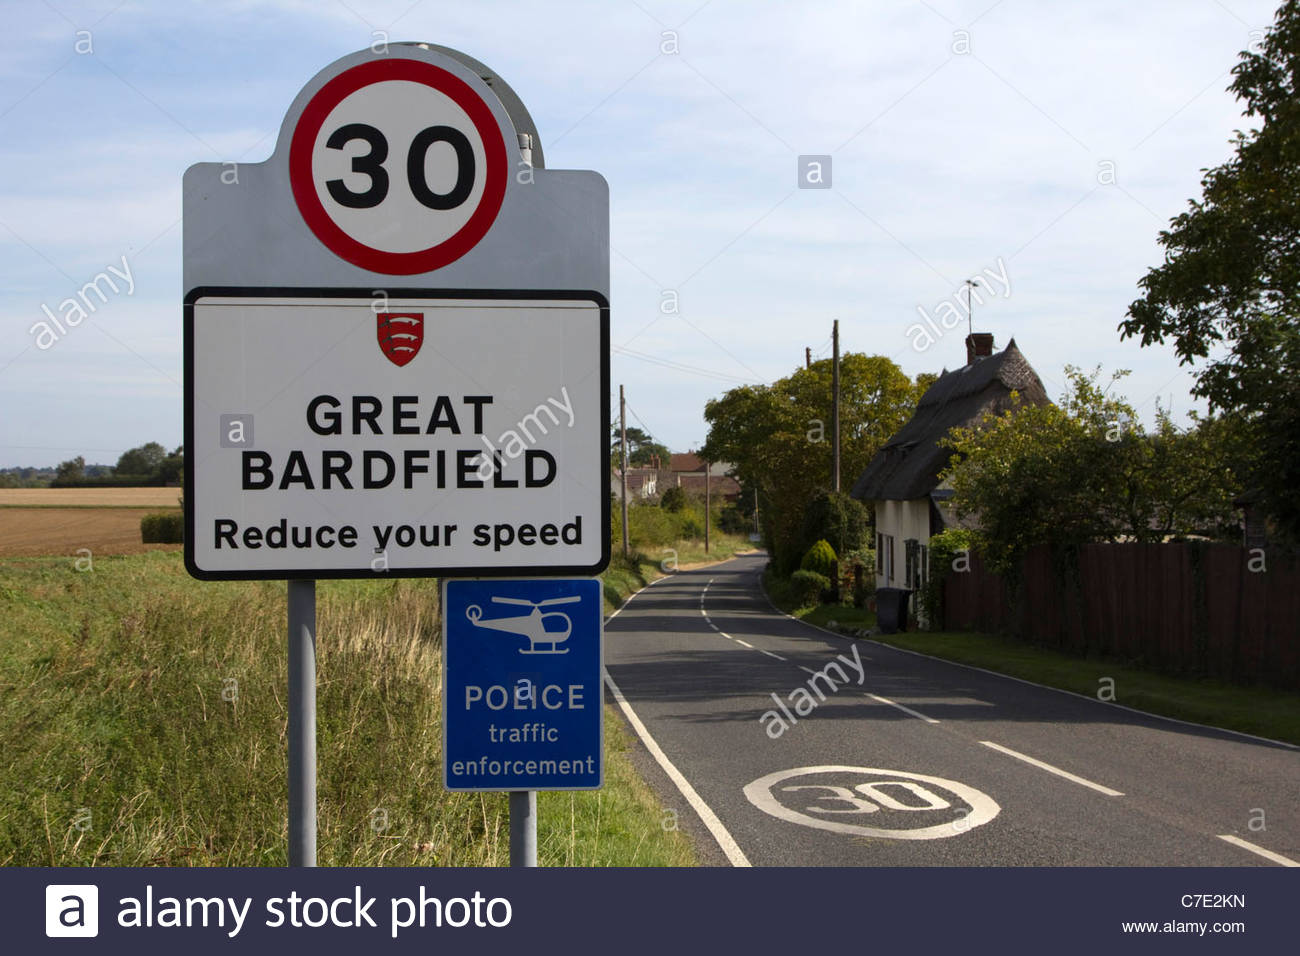speed_limit_30: (289, 58, 508, 278)
